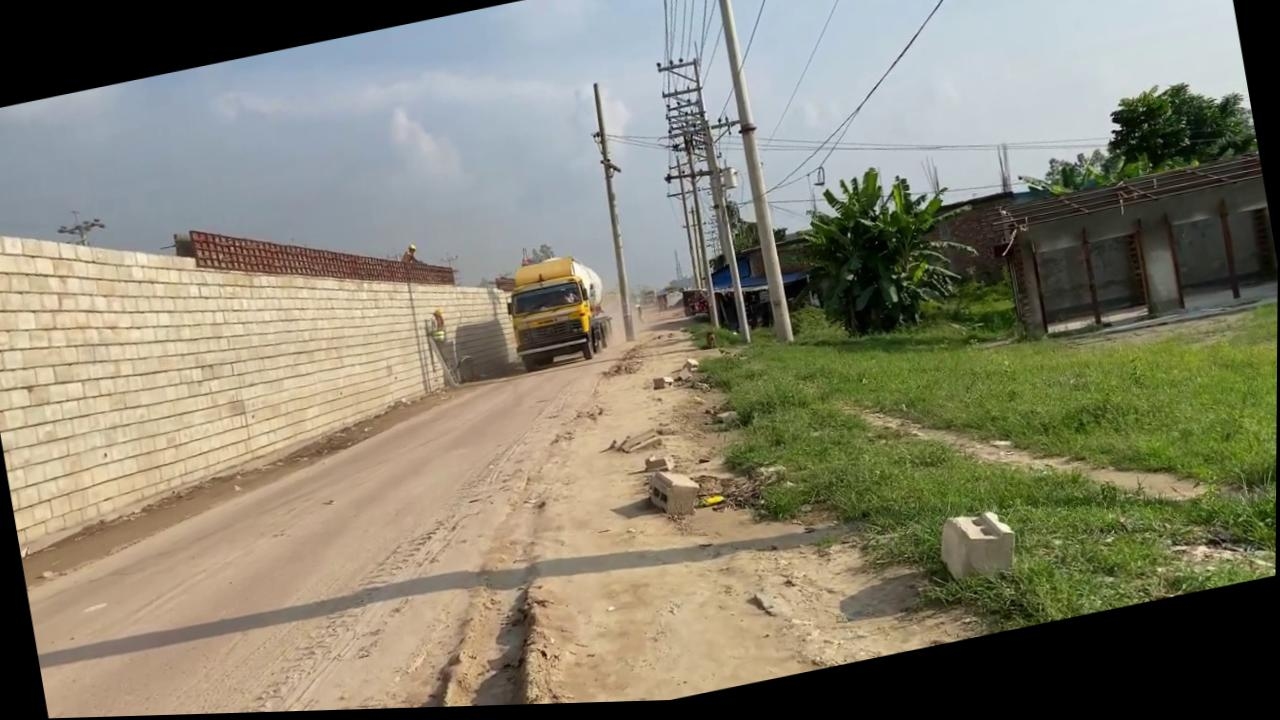Garbage: (933, 509, 1022, 595)
Obstacle: (644, 466, 704, 526)
Pole: (706, 0, 797, 352), (579, 83, 644, 346)
Rickshaw: (271, 247, 989, 714)
Traffic-sign: (779, 152, 989, 353), (1095, 73, 1257, 189)
Tree: (497, 244, 618, 378)
Upstairs: (0, 125, 536, 554)
